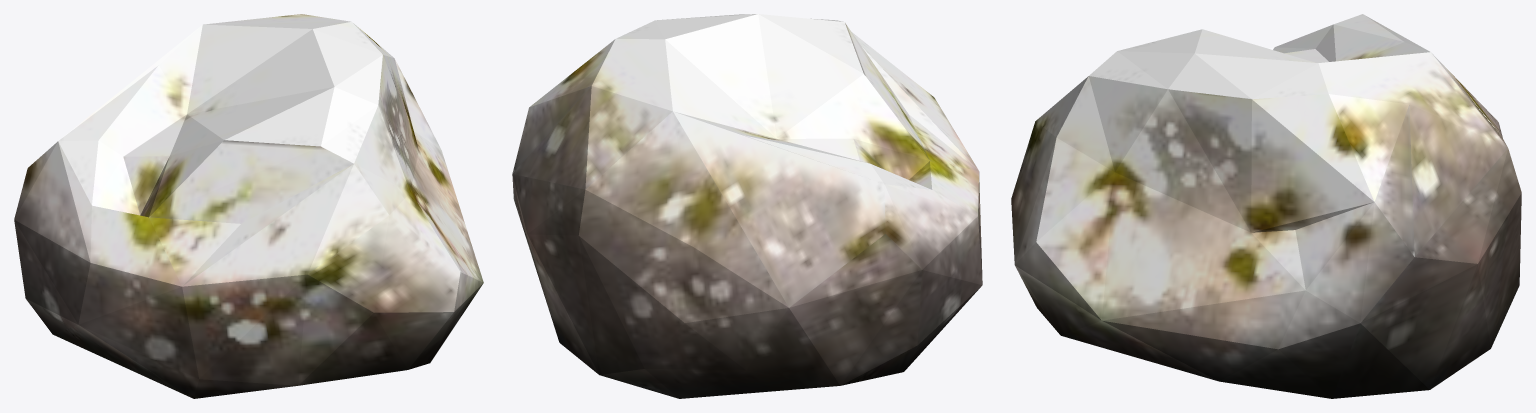
Rendered from ga3_rock_a_lod0.glb.
The picture shows the model from 3 angles, left to right: view 1: azimuth 30°, elevation 25°; view 2: azimuth 150°, elevation 25°; view 3: azimuth 270°, elevation 25°; orthographic projection. The views are drawn at different scales.
Visible parts, largest first — view 1: ga3_rock_a_lod0; view 2: ga3_rock_a_lod0; view 3: ga3_rock_a_lod0.
Part boxes in pixels (box(x1,y1,x2,y2)): ga3_rock_a_lod0: box(14, 14, 483, 398); ga3_rock_a_lod0: box(512, 14, 982, 398); ga3_rock_a_lod0: box(1011, 14, 1521, 398).
Bounding box in the file's own units: 0.9975 × 0.6615 × 0.9955.
1 material, 1 textured.
